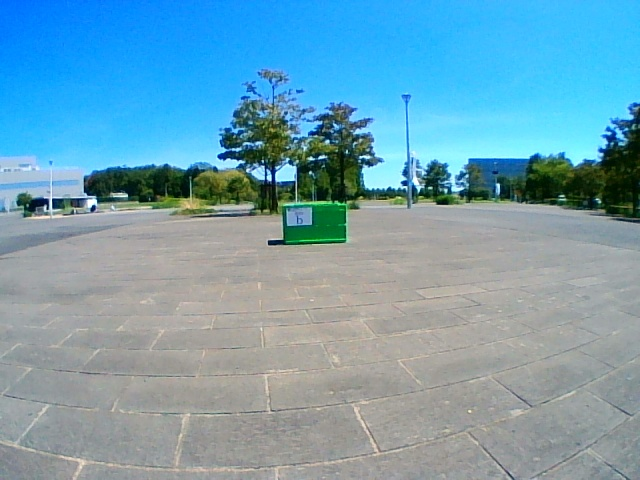green_box: (283, 204, 346, 245)
tag_b: (286, 209, 312, 226)
